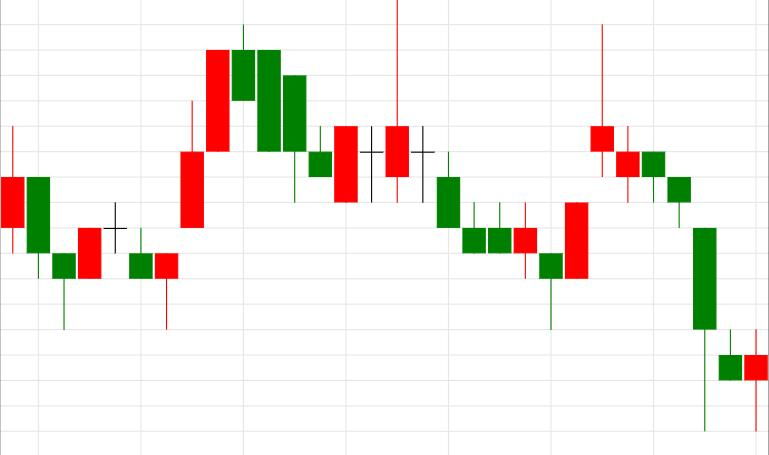hammer_rise: (411, 125, 563, 331)
